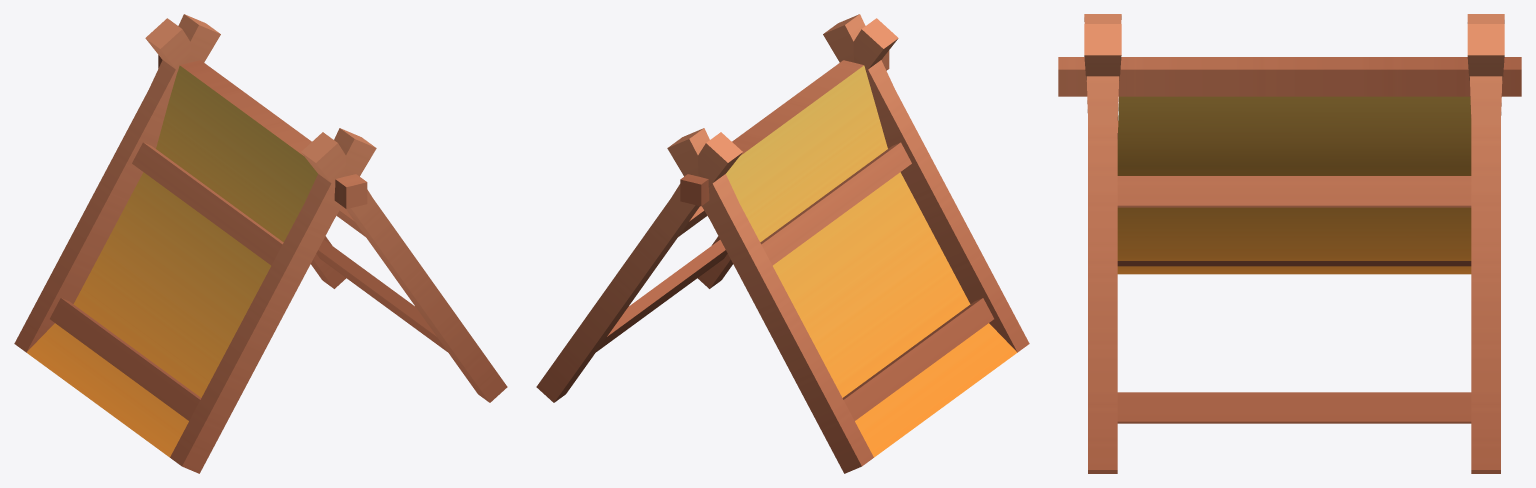
File: Prop_tent-canvas-half.fbx
3 renders of one model, left to right at view 1: azimuth 30°, elevation 25°; view 2: azimuth 150°, elevation 25°; view 3: azimuth 270°, elevation 25°, orthographic. The views are drawn at different scales.
Parts seen in each view (by area): view 1: Prop_tent-canvas-half; view 2: Prop_tent-canvas-half; view 3: Prop_tent-canvas-half.
Boxes of the visible parts, x1,y1,x2,y2 form: Prop_tent-canvas-half: (14,14,507,473); Prop_tent-canvas-half: (536,14,1029,473); Prop_tent-canvas-half: (1058,14,1521,473).
Bounding box in the file's own units: 202 × 177 × 202.
Materials: 1 (1 with a texture image).
